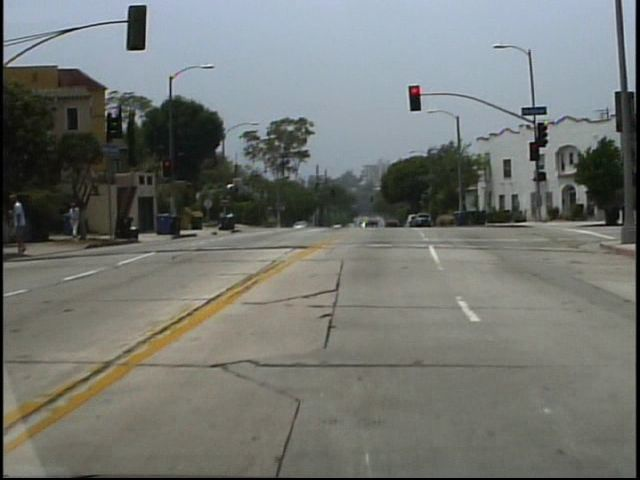person: (71, 201, 85, 243)
